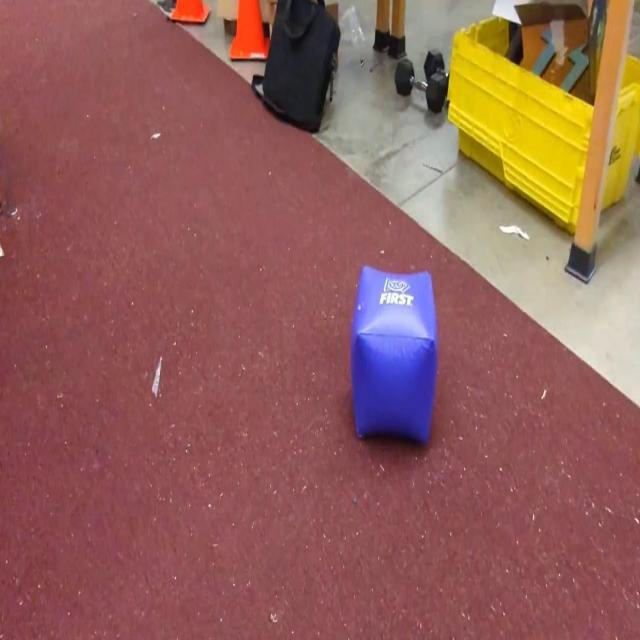frc_cube: (349, 267, 437, 448)
